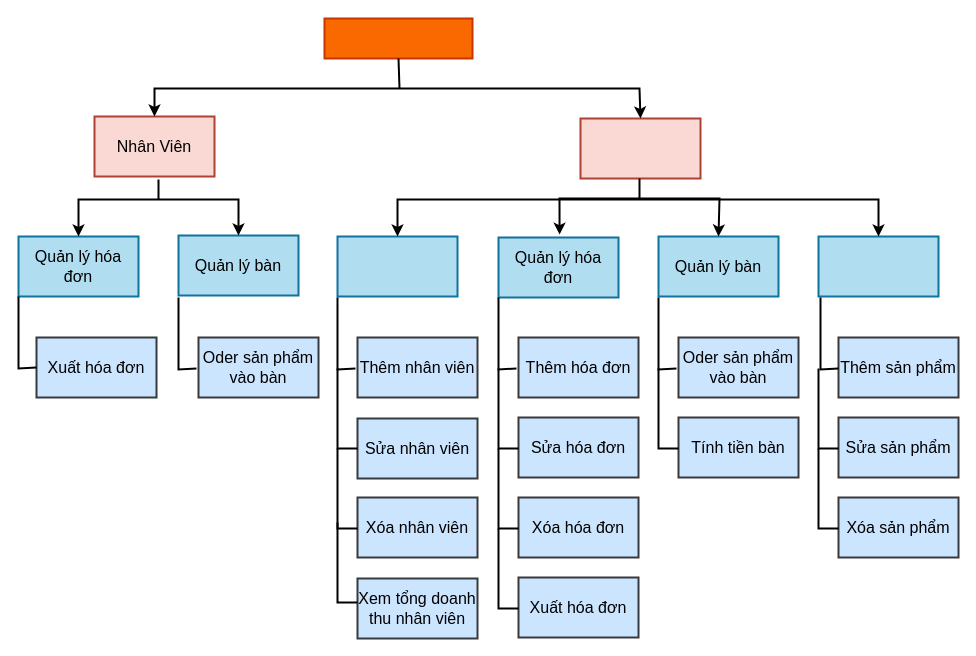
Image size: 976x656. Some labels were removed from this diagram. Each missing label, with the centre of its shape:
"Admin" goes at [640,148].
"Quản lý nhân viên" goes at [397,266].
"Quản lý quản bia" goes at [398,38].
"Quản lý sản phẩm (đồ ăn uống)" goes at [878,266].
